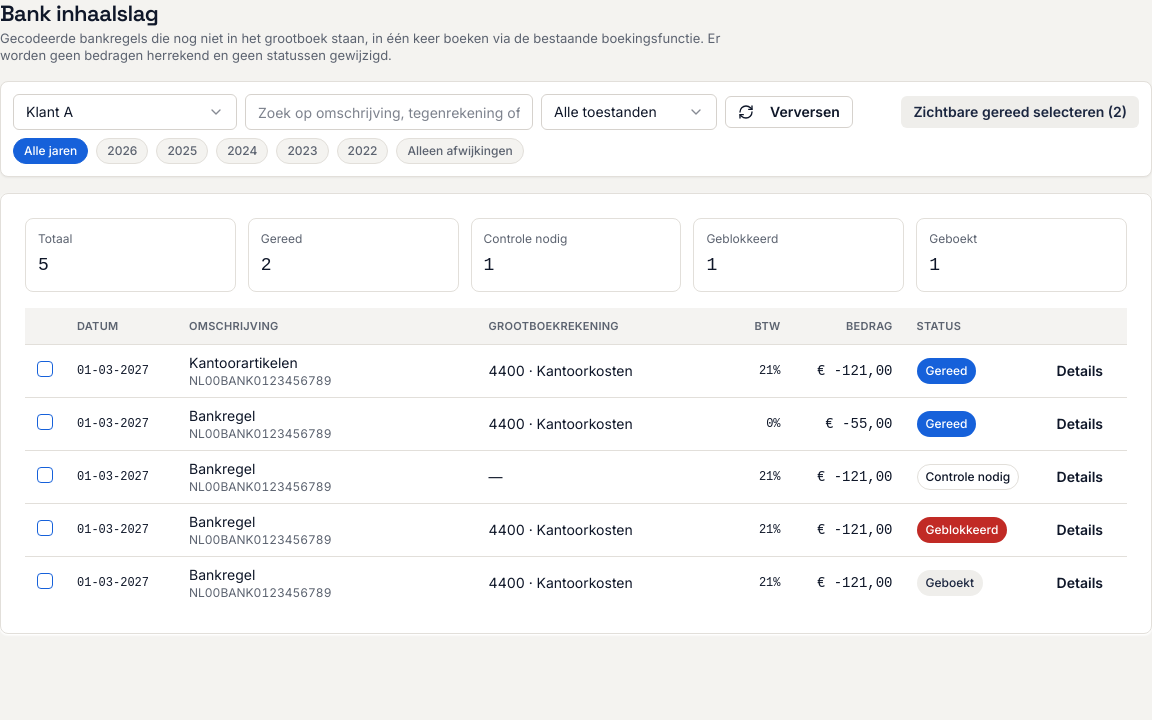
selectie › 3d. de selectie kan in één keer worden gewist
This screenshot has width=1152, height=720.
Click the checkbox with test id "inhaalslag-checkbox" in the row of "Kantoorartikelen". click: coordinates (45, 369)
box: [37,361,53,377]
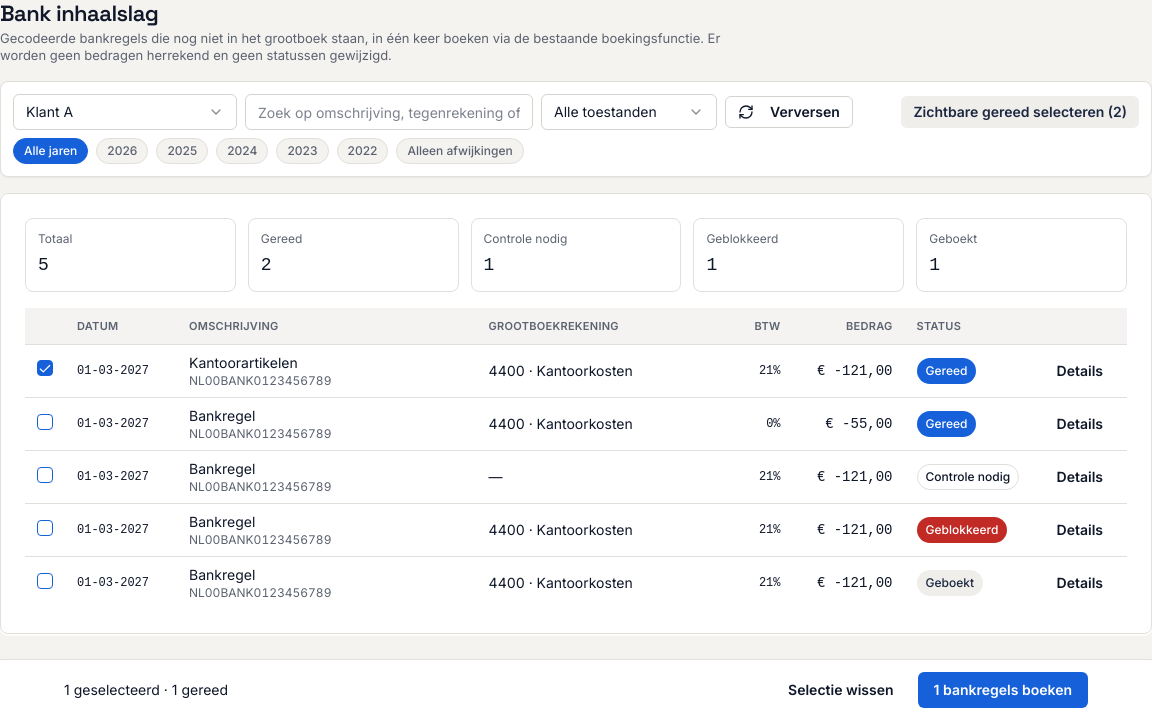
Click the button with test id "inhaalslag-selectie-wissen". click: coordinates (841, 690)
box: [772,672,910,708]
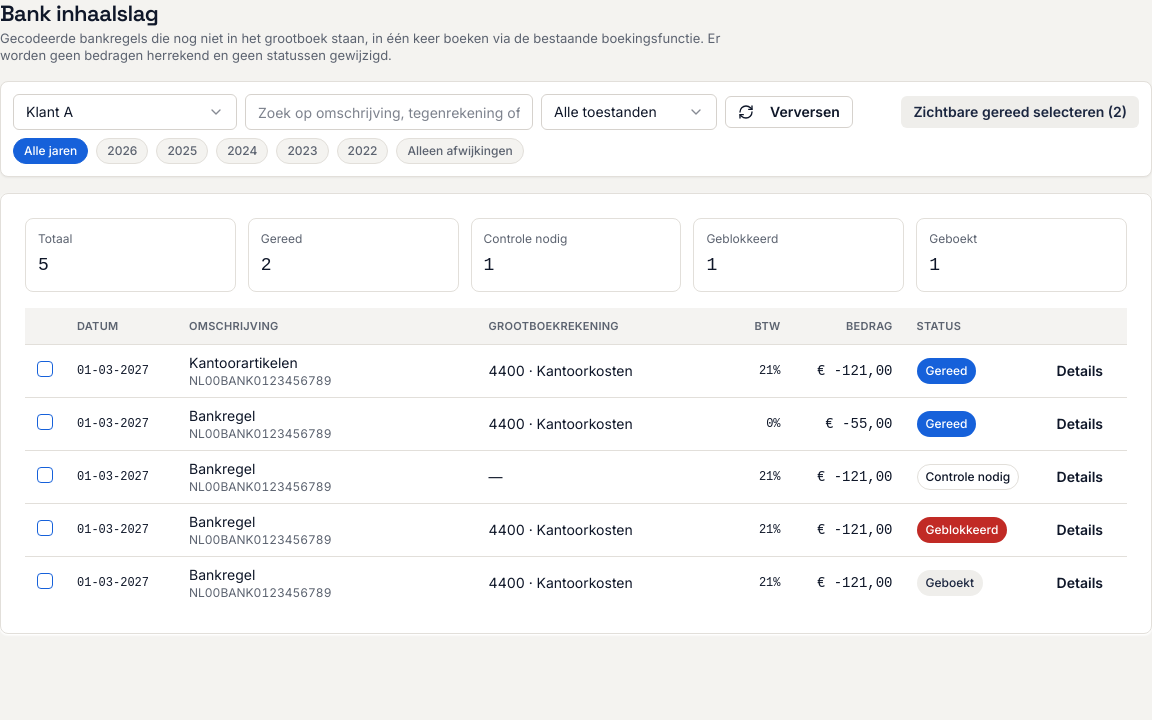
Now the element with test id "inhaalslag-bulkbalk" is gone
